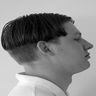ear: (31, 35, 60, 61)
